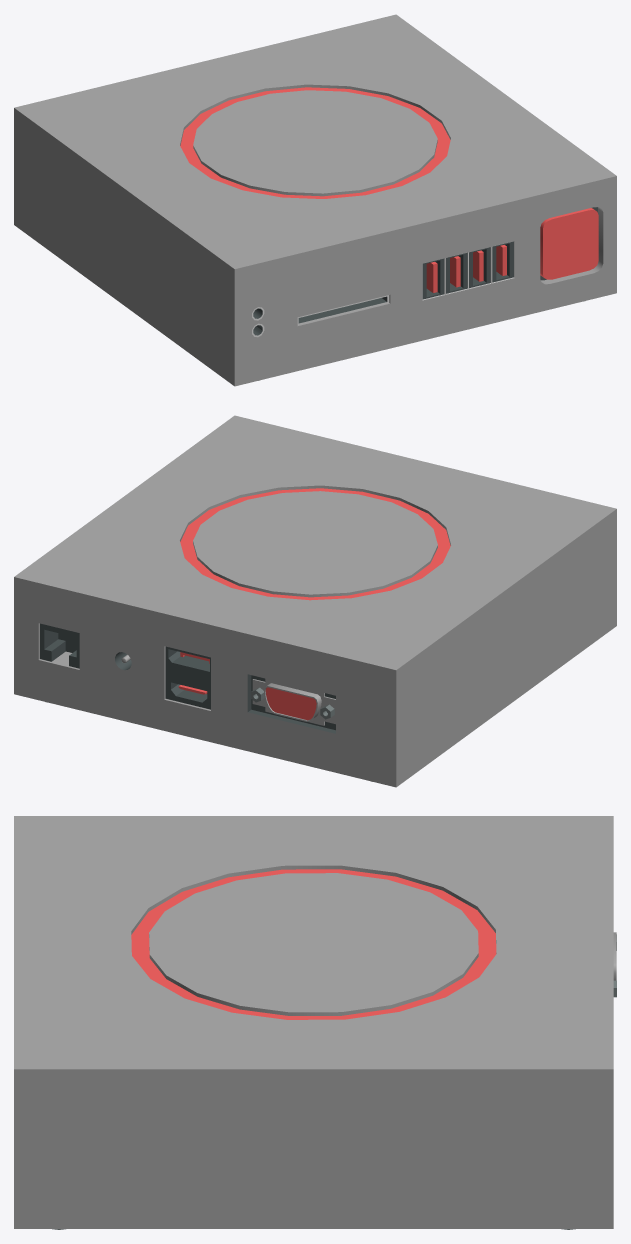
File: miniPC.glb
3 views of the same model, one above another, from view 1: azimuth 30°, elevation 25°; view 2: azimuth 150°, elevation 25°; view 3: azimuth 270°, elevation 25° (orthographic). The views are drawn at different scales.
Visible parts, largest first — view 1: case, teamColor; view 2: case, teamColor; view 3: case, teamColor.
Boxes of the visible parts, x1,y1,x2,y2 form: case: [14, 14, 616, 386]; teamColor: [180, 87, 598, 292]; case: [14, 415, 616, 787]; teamColor: [178, 488, 450, 720]; case: [14, 816, 616, 1229]; teamColor: [131, 869, 496, 1019].
Bounding box in the file's own units: 0.1474 × 0.0446 × 0.1482.
Materials: 2 (1 with a texture image).
